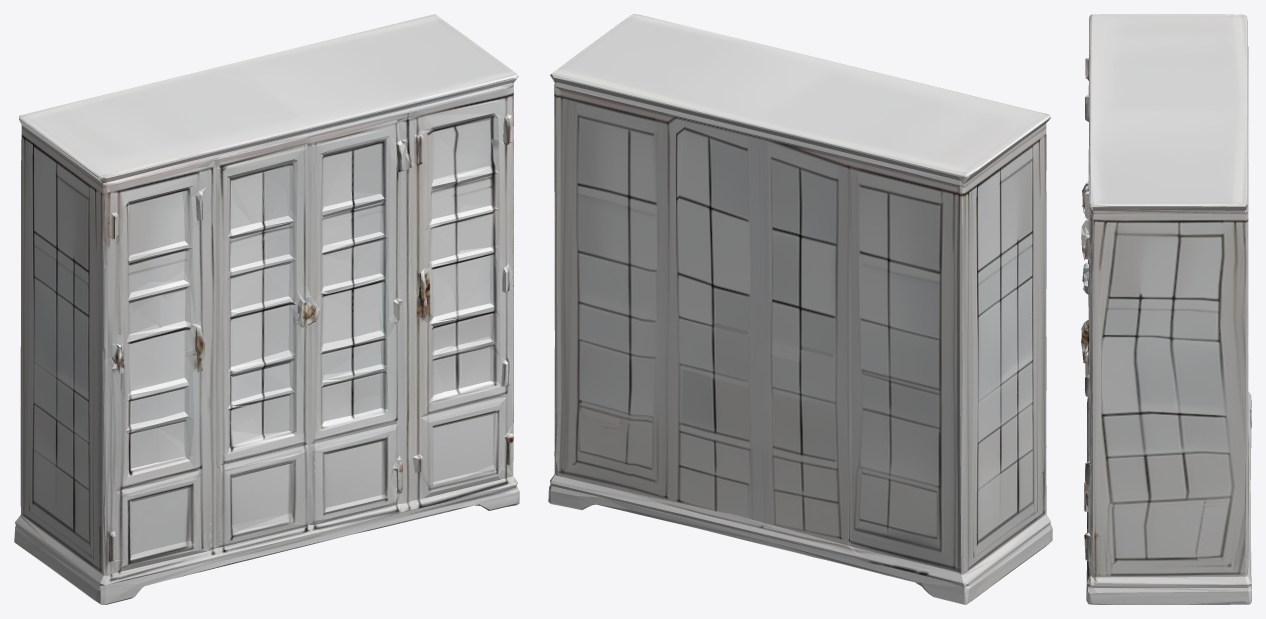
File: cabinet-hy3d.glb
3 views of the same model, side by side, from view 1: azimuth 30°, elevation 25°; view 2: azimuth 150°, elevation 25°; view 3: azimuth 270°, elevation 25° (orthographic). The views are drawn at different scales.
Visible parts, largest first — view 1: temp_mesh.ply; view 2: temp_mesh.ply; view 3: temp_mesh.ply.
Part boxes in pixels (box(x1,y1,x2,y2)): temp_mesh.ply: box(14, 14, 519, 604); temp_mesh.ply: box(548, 14, 1052, 604); temp_mesh.ply: box(1081, 14, 1251, 604).
Bounding box in the file's own units: 1.99 × 1.94 × 0.7513.
Materials: 1 (1 with a texture image).
